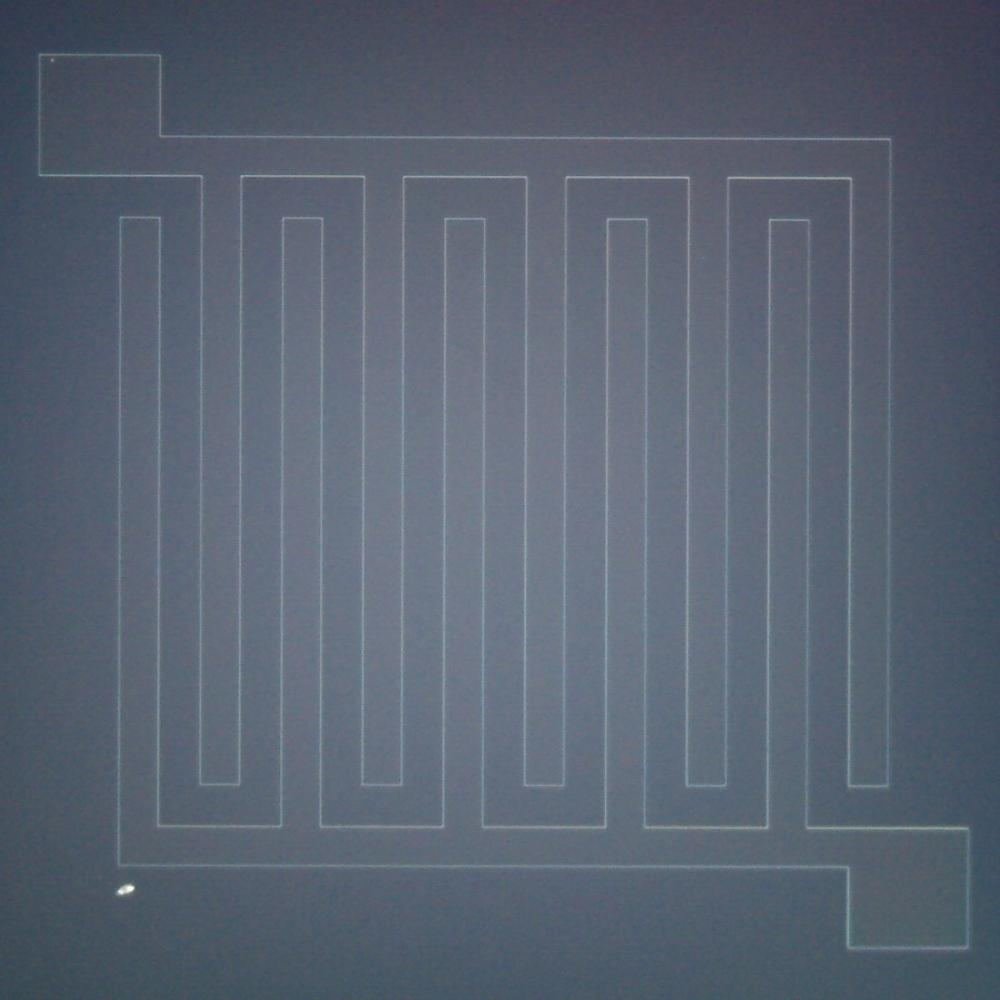dot: (117, 881, 135, 899), (50, 58, 55, 64), (701, 256, 706, 261)
